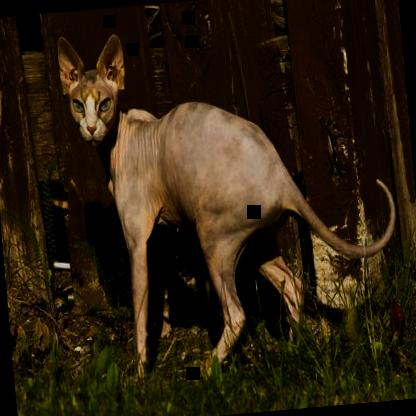cat: (56, 7, 408, 386)
